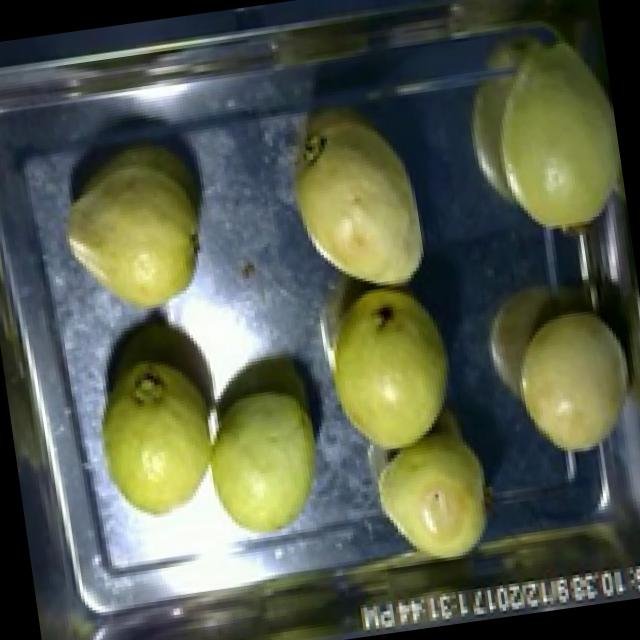Fruit: (448, 12, 632, 256), (65, 302, 248, 539), (36, 120, 232, 340), (264, 87, 442, 311), (302, 267, 470, 467), (196, 363, 337, 554), (496, 292, 640, 473), (356, 413, 508, 577)
